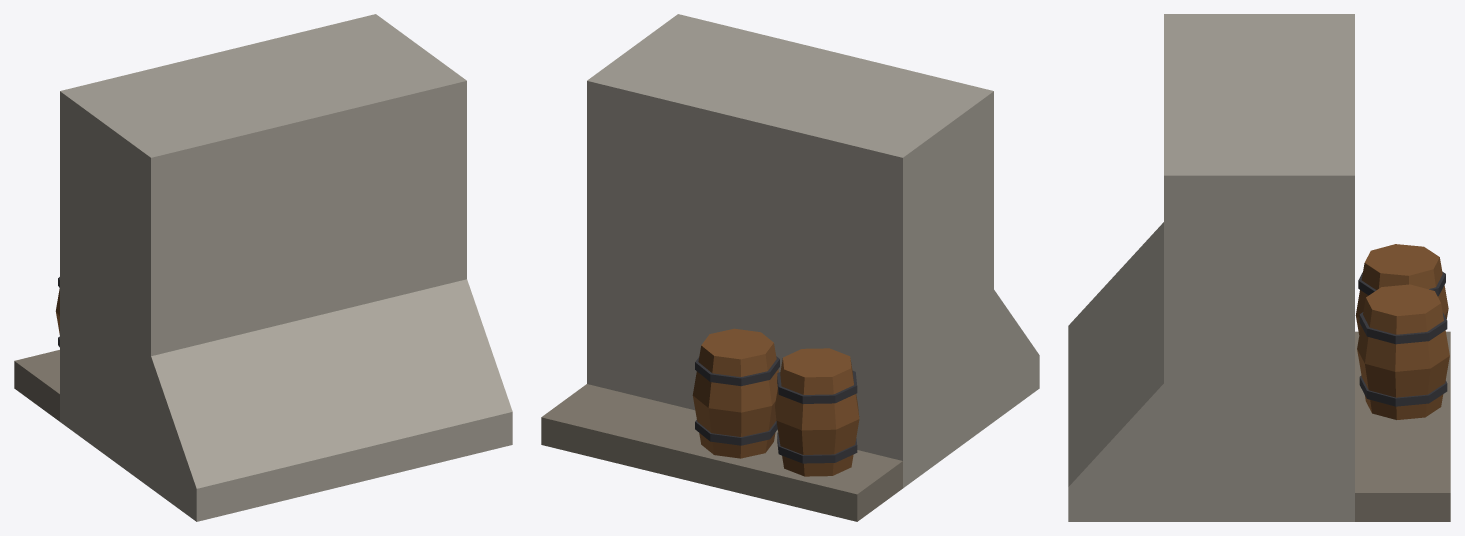
Rendered from Mur_Dol_Beczki.fbx.
3 renders of one model, left to right at view 1: azimuth 30°, elevation 25°; view 2: azimuth 150°, elevation 25°; view 3: azimuth 270°, elevation 25°, orthographic. The views are drawn at different scales.
Visible parts, largest first — view 1: Mur_Dol_Beczki; view 2: Mur_Dol_Beczki; view 3: Mur_Dol_Beczki.
Boxes of the visible parts, x1,y1,x2,y2 form: Mur_Dol_Beczki: (14, 14, 512, 521); Mur_Dol_Beczki: (541, 14, 1039, 521); Mur_Dol_Beczki: (1068, 14, 1450, 521).
Bounding box in the file's own units: 3 × 3 × 3.
